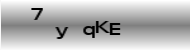7: (29, 6, 43, 21)
E: (108, 22, 121, 36)
K: (94, 20, 109, 34)
q: (82, 24, 95, 39)
y: (53, 26, 69, 39)
